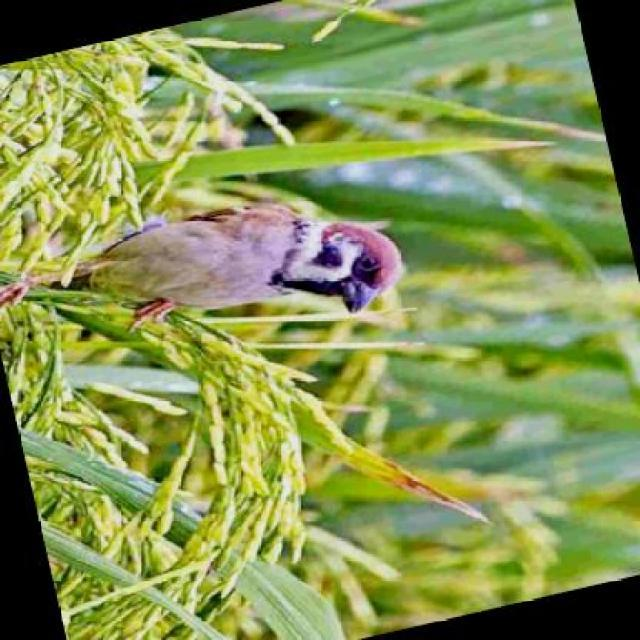Bird: (0, 200, 407, 329)
